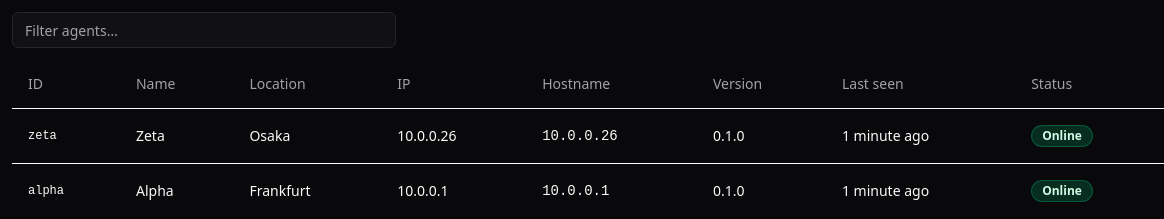
it: AgentsTable › filtering › typing in filter input narrows rows by display_name
Type "Zeta" into the field labelled "Filter agents…". click: (204, 30)
box: [12, 12, 396, 48]
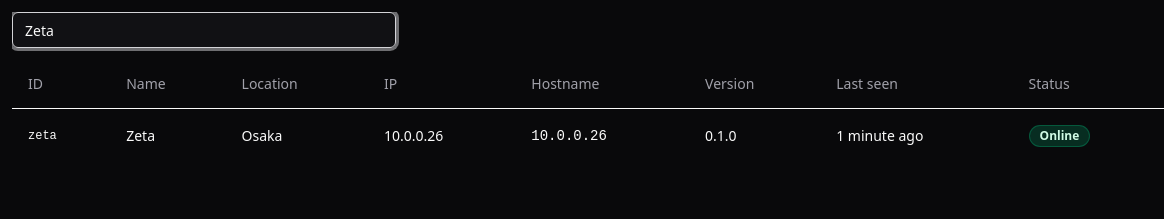
Check: the text "Zeta" is shown, box [110, 108, 226, 162]
Check: the link "alpha" is gone
